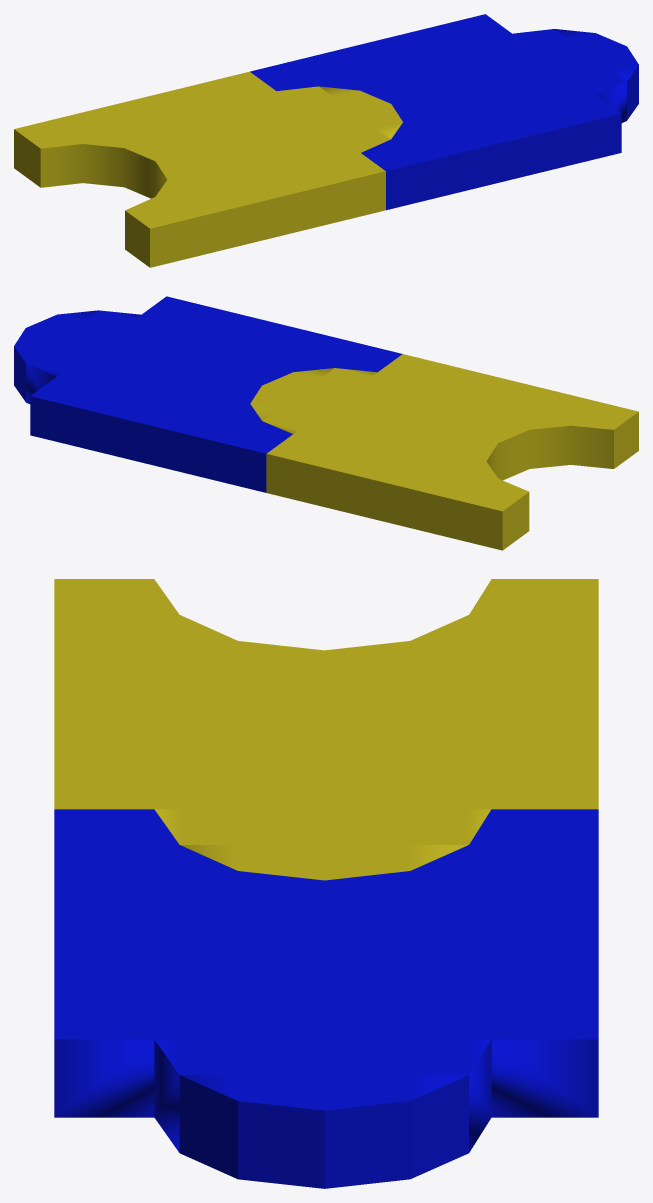
File: puzzleplatforms.fbx
The picture shows the model from 3 angles, top to bottom: view 1: azimuth 30°, elevation 25°; view 2: azimuth 150°, elevation 25°; view 3: azimuth 270°, elevation 25°; orthographic projection. The views are drawn at different scales.
Parts seen in each view (by area): view 1: Dblue003, Dblue004; view 2: Dblue003, Dblue004; view 3: Dblue004, Dblue003.
Boxes of the visible parts, left/top/right/bottom form: Dblue003: left=14, top=71, right=402, bottom=267; Dblue004: left=250, top=14, right=638, bottom=210; Dblue003: left=250, top=354, right=638, bottom=550; Dblue004: left=14, top=296, right=402, bottom=492; Dblue004: left=54, top=809, right=598, bottom=1188; Dblue003: left=54, top=579, right=598, bottom=880.
Size of the model in its own units: 318 by 21.87 by 138.
